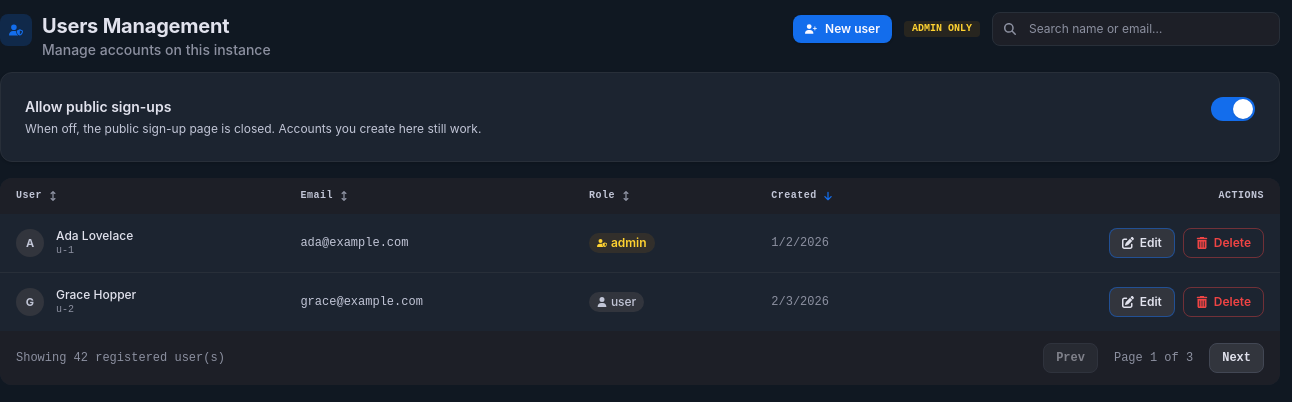
Test: UsersSection › keeps Prev disabled on the first page and pages forward with Next
Expected: the text "Ada Lovelace" is shown, [56, 228, 133, 244]
Expected: the button "Prev" is disabled, [1043, 343, 1098, 373]
Click the button "Next" at {"x": 1237, "y": 358}, box [1209, 343, 1264, 373]
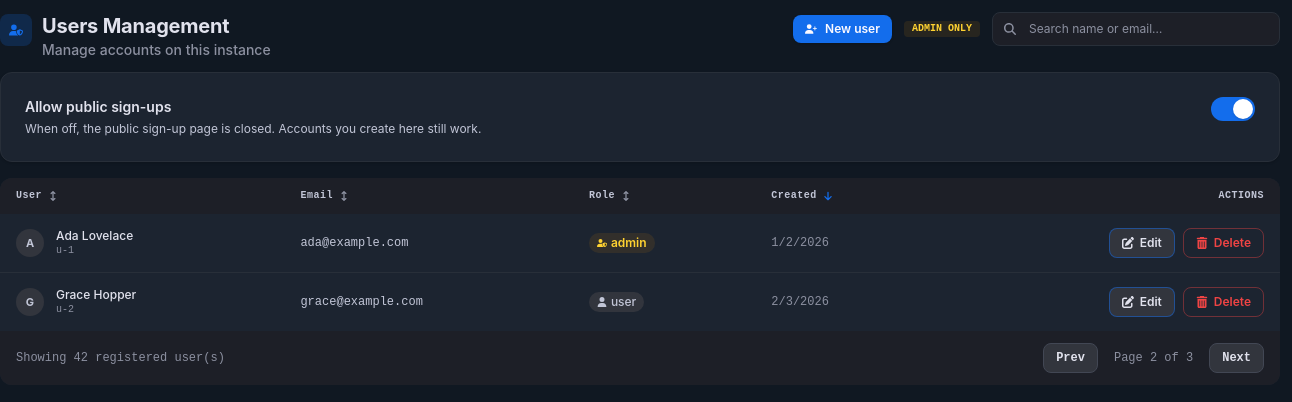
Expected: the button "Prev" is enabled, [1043, 343, 1098, 373]
